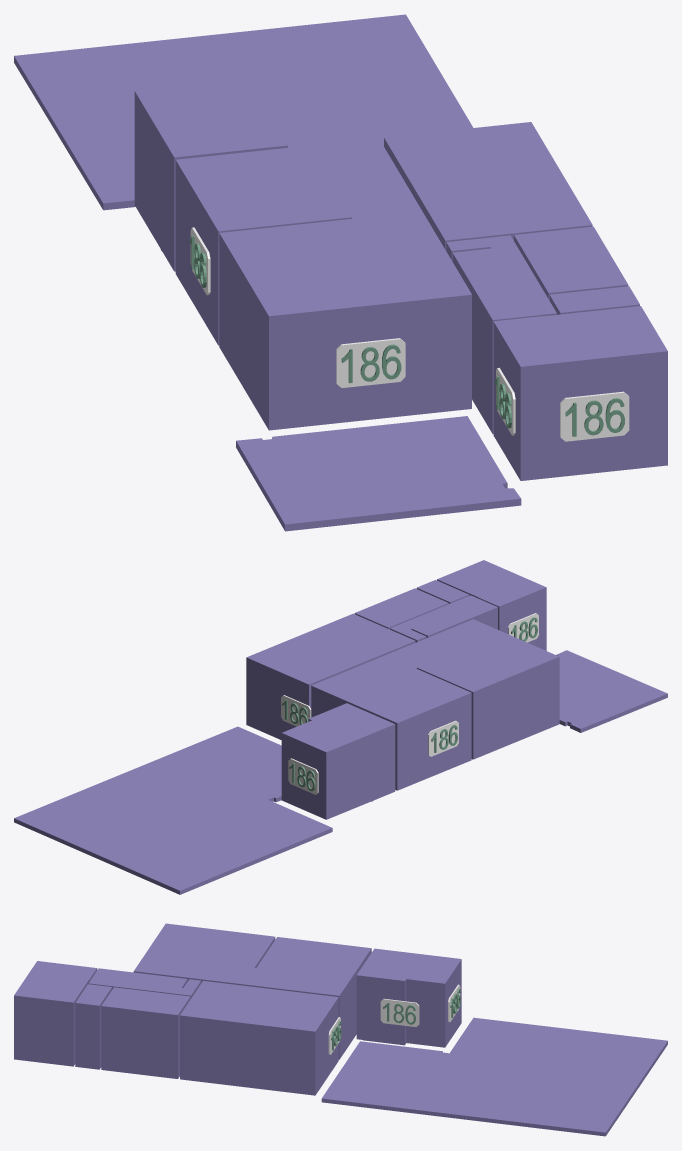
The picture shows the model from 3 angles, top to bottom: view 1: azimuth 30°, elevation 25°; view 2: azimuth 150°, elevation 25°; view 3: azimuth 270°, elevation 25°; orthographic projection. The views are drawn at different scales.
Visible parts, largest first — view 1: g_0, g_8, g_3, g_9, g_1, g_2, g_7, g_6, g_4, g_13, g_25, g_5; view 2: g_8, g_0, g_1, g_7, g_2, g_9, g_3, g_6, g_4, g_5, g_33, g_29 (+1 smaller); view 3: g_8, g_2, g_7, g_4, g_1, g_3, g_0, g_5, g_6, g_21.
Part boxes in pixels (x1,y1,x2,y2): g_0: (219,211,471,430); g_8: (14,14,473,210); g_3: (493,306,667,480); g_9: (236,416,521,531); g_1: (175,138,421,345); g_2: (384,122,592,250); g_7: (134,80,287,271); g_6: (446,235,556,434); g_4: (514,226,628,300); g_13: (560,391,629,441); g_25: (336,338,405,387); g_5: (549,286,639,314); g_8: (14,726,332,894); g_0: (387,619,559,759); g_1: (311,654,471,790); g_7: (281,703,395,819); g_2: (246,613,415,739); g_9: (556,650,667,732); g_3: (437,560,546,650); g_6: (390,595,497,642); g_4: (354,588,448,629); g_5: (416,580,469,603); g_33: (428,720,458,756); g_29: (288,758,318,794); g_8: (321,1017,667,1136); g_2: (180,981,338,1095); g_7: (356,948,461,1047); g_4: (101,987,190,1078); g_1: (243,937,371,1059); g_3: (14,961,97,1066); g_0: (133,923,275,985); g_5: (75,984,111,1069); g_6: (88,968,201,998); g_21: (380,998,419,1026).
Size of the model in its own units: 13.96 by 2.65 by 23.02.
